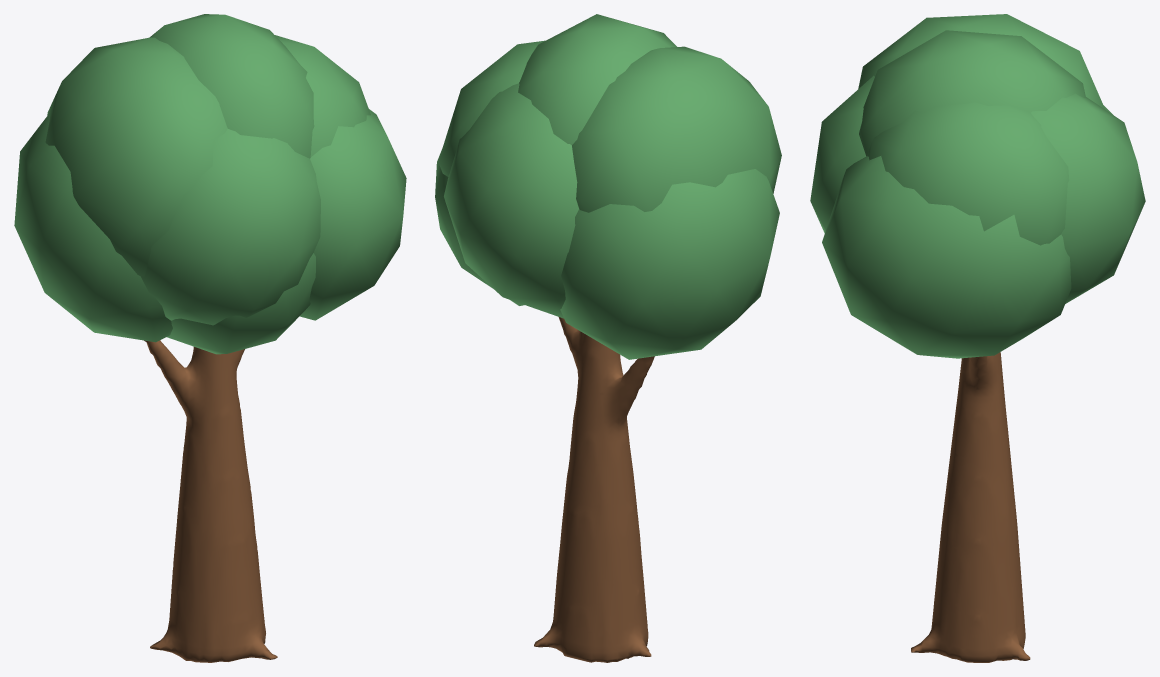
Rendered from NaturalTree_03_Tall.fbx.
3 views of the same model, side by side, from view 1: azimuth 30°, elevation 25°; view 2: azimuth 150°, elevation 25°; view 3: azimuth 270°, elevation 25° (orthographic). The views are drawn at different scales.
Visible parts, largest first — view 1: Foliage_01.002, Trunk.002, Foliage_03.002, Foliage_05.002, Foliage_06.002, Foliage_00.002, Foliage_07.002, Foliage_02.002; view 2: Foliage_05.002, Foliage_01.002, Trunk.002, Foliage_04.002, Foliage_00.002, Foliage_02.002, Foliage_06.002; view 3: Foliage_06.002, Trunk.002, Foliage_02.002, Foliage_00.002, Foliage_04.002, Foliage_01.002, Foliage_03.002.
Part boxes in pixels (<box>): Foliage_01.002: <box>45,37,227,276</box>; Trunk.002: <box>144,340,277,662</box>; Foliage_03.002: <box>141,129,320,325</box>; Foliage_05.002: <box>14,112,172,342</box>; Foliage_06.002: <box>299,109,406,320</box>; Foliage_00.002: <box>149,14,314,158</box>; Foliage_07.002: <box>167,253,315,354</box>; Foliage_02.002: <box>275,35,370,157</box>; Foliage_05.002: <box>560,169,779,359</box>; Foliage_01.002: <box>572,46,781,212</box>; Trunk.002: <box>534,317,654,662</box>; Foliage_04.002: <box>444,83,578,318</box>; Foliage_00.002: <box>518,14,676,145</box>; Foliage_02.002: <box>438,40,545,176</box>; Foliage_06.002: <box>435,150,524,305</box>; Foliage_06.002: <box>822,156,1071,358</box>; Trunk.002: <box>911,352,1030,662</box>; Foliage_02.002: <box>867,102,1069,245</box>; Foliage_00.002: <box>859,30,1085,156</box>; Foliage_04.002: <box>1031,93,1145,303</box>; Foliage_01.002: <box>858,14,1105,109</box>; Foliage_03.002: <box>810,75,874,233</box>.
Size of the model in its own units: 1.79 by 3.19 by 1.59.
